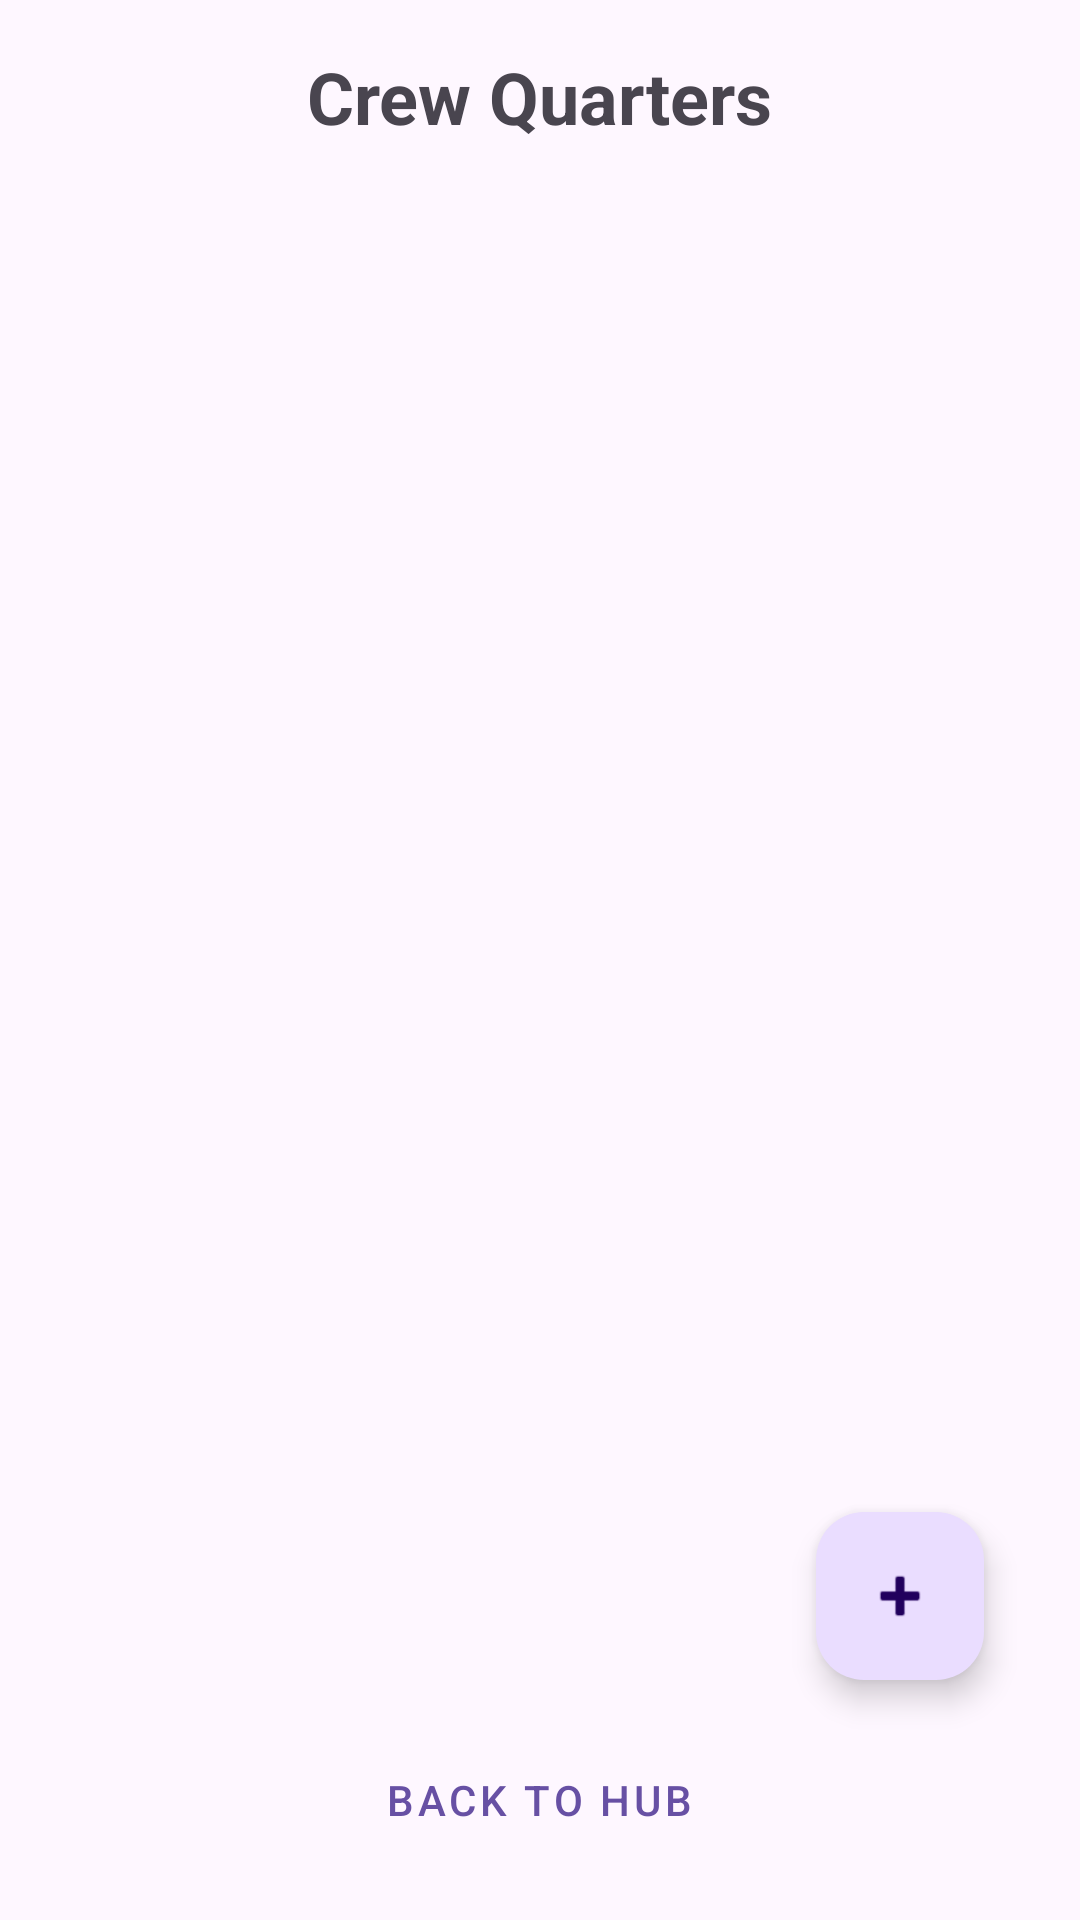

Icon click points for this 1080 x 1920 phone screenshot, format (x,y):
add: (900,1596)
